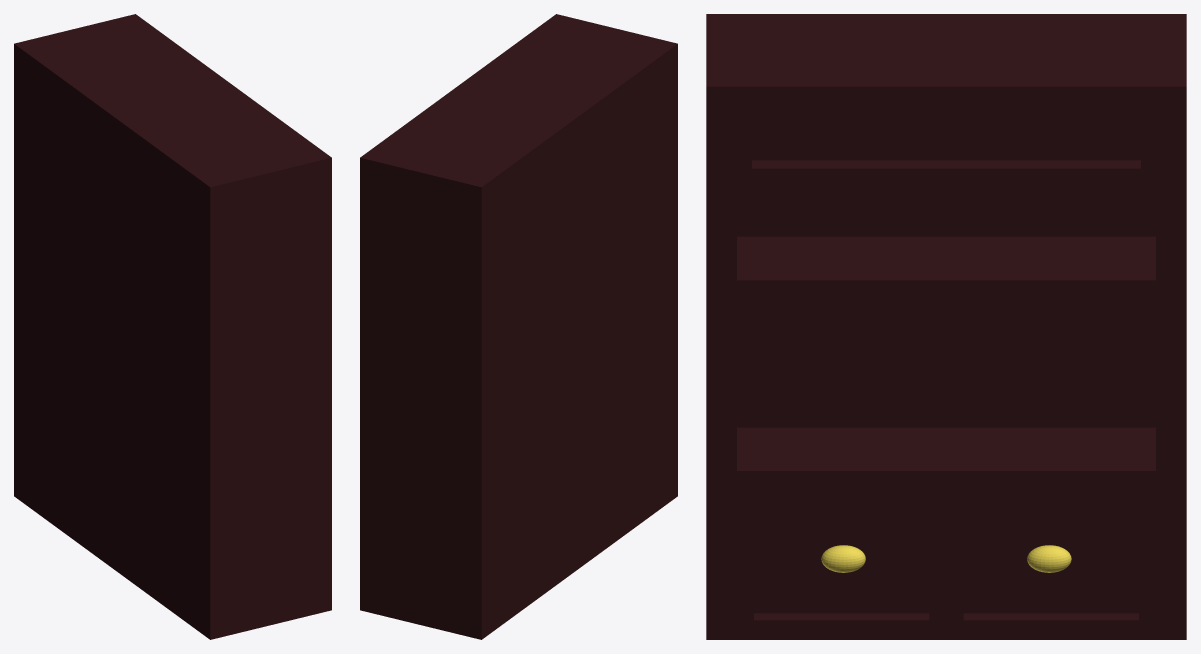
File: mobilia.fbx
3 renders of one model, left to right at view 1: azimuth 30°, elevation 25°; view 2: azimuth 150°, elevation 25°; view 3: azimuth 270°, elevation 25°, orthographic. The views are drawn at different scales.
Parts seen in each view (by area): view 1: Cube; view 2: Cube; view 3: Cube, Sphere.
Boxes of the visible parts, left/top/right/bottom form: Cube: left=14, top=14, right=331, bottom=639; Cube: left=360, top=14, right=677, bottom=639; Cube: left=706, top=14, right=1186, bottom=639; Sphere: left=821, top=545, right=1071, bottom=572.
Bounding box in the file's own units: 221 × 764 × 601.
